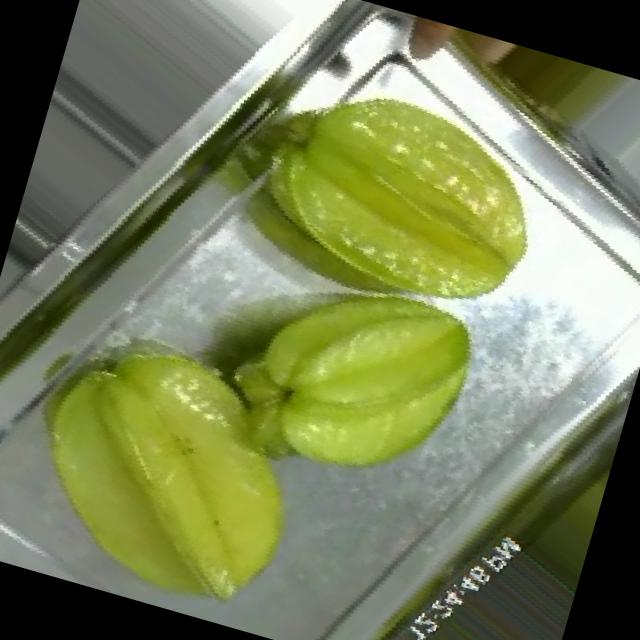fruit: (177, 1, 611, 444), (0, 267, 395, 640), (469, 357, 634, 640)
